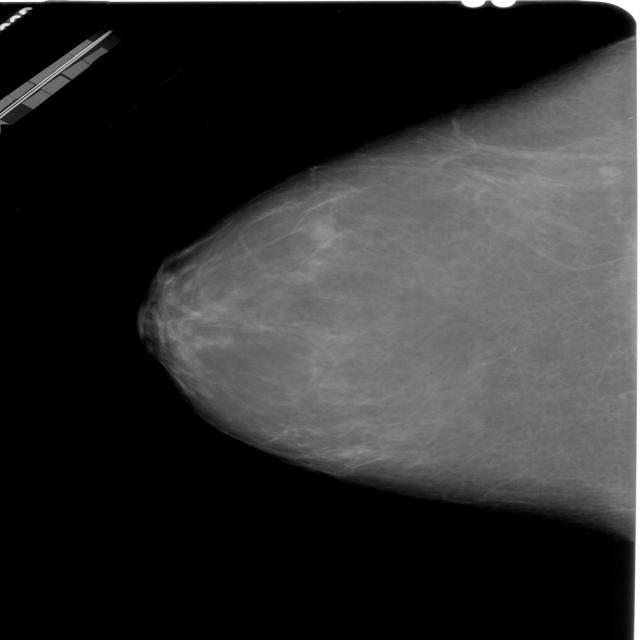normal: (131, 0, 640, 529)
